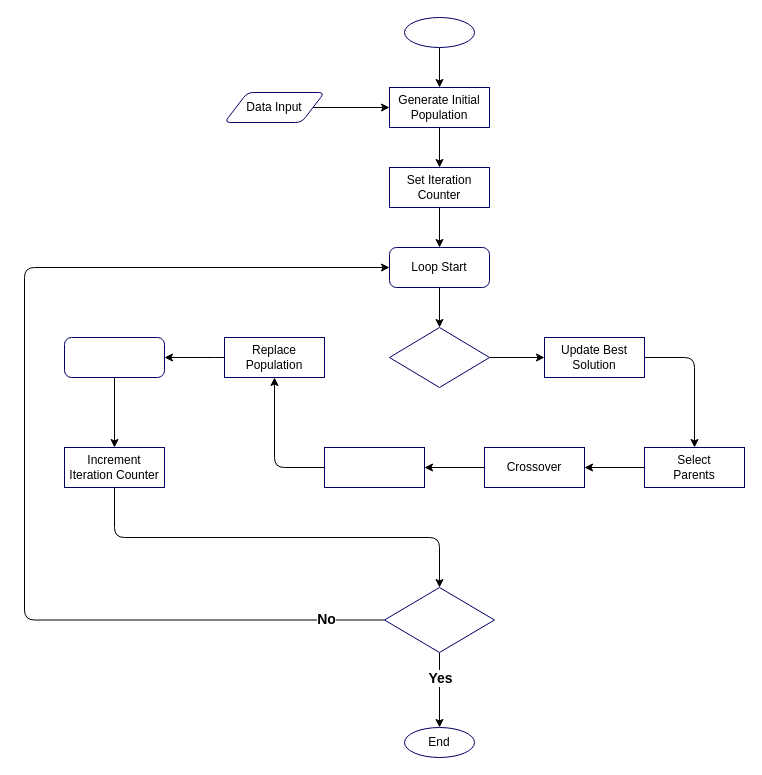
Image size: 762x775. Some labels were removed from this diagram. Each missing label, with the box of its shape:
Check Termination Condition: (384, 586, 494, 652)
Evaluate Fitness: (388, 326, 490, 388)
Loop End: (64, 336, 164, 378)
Mutation: (324, 446, 424, 488)
Start: (404, 16, 474, 48)
